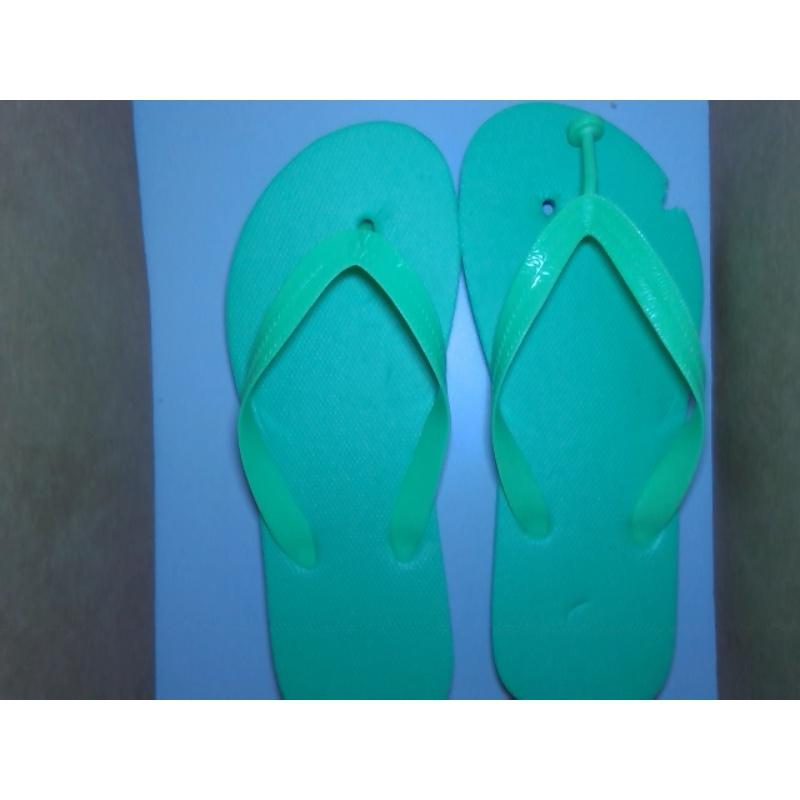chipped: (650, 166, 699, 226)
detached: (558, 108, 615, 171)
